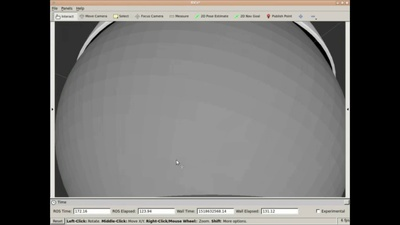mira_robot: (57, 22, 345, 195)
